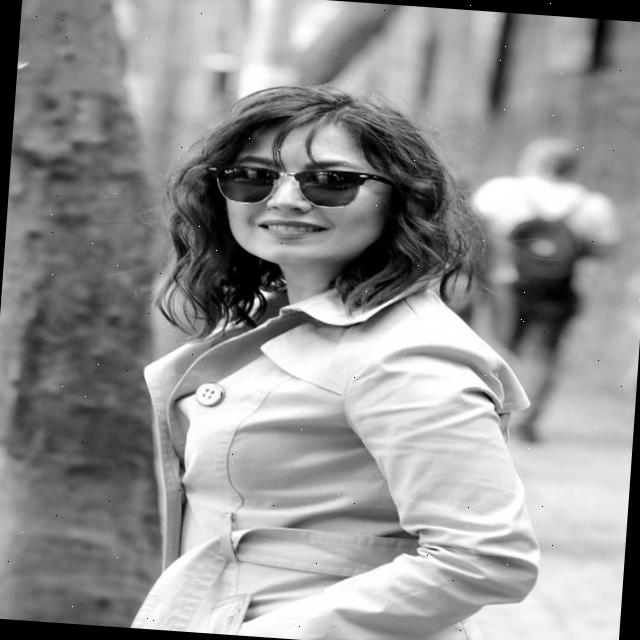Happiness: (214, 119, 386, 272)
